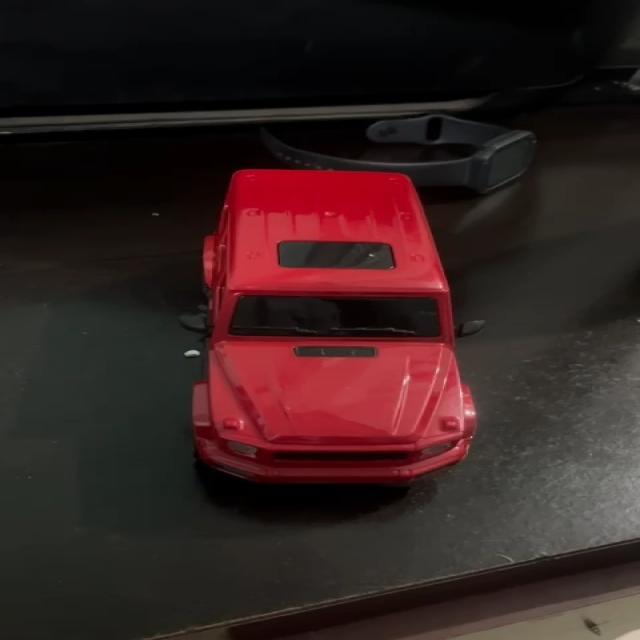light_vehicle: (183, 163, 479, 487)
